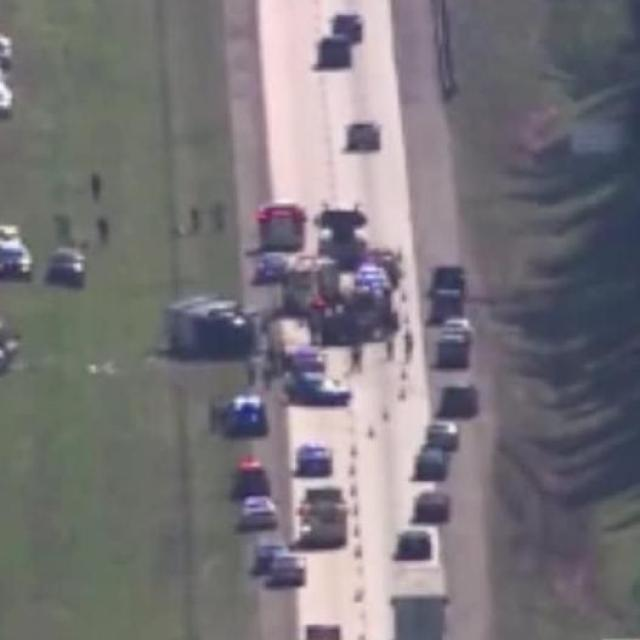traffic_incident: (261, 226, 412, 360)
